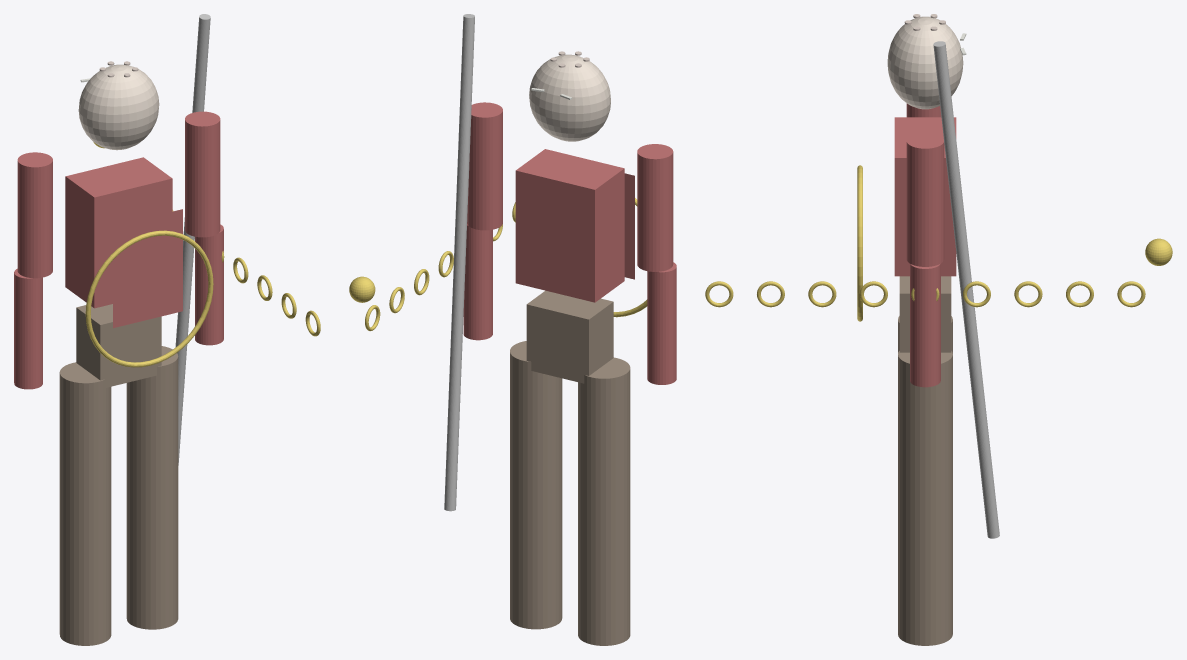
The model's file is 空慧禅师_粗模.glb.
3 renders of one model, left to right at view 1: azimuth 30°, elevation 25°; view 2: azimuth 150°, elevation 25°; view 3: azimuth 270°, elevation 25°, orthographic. The views are drawn at different scales.
Visible parts, largest first — view 1: 空慧禅师_Leg.001, 空慧禅师_Leg, 空慧禅师_Torso, 空慧禅师_Kasaya, 空慧禅师_Head, 空慧禅师_Waist, 空慧禅师_ArmUpper, 空慧禅师_ArmUpper.001, 空慧禅师_ArmLower.001, 空慧禅师_Staff, 空慧禅师_ArmLower, 空慧禅师_GoldTrim; view 2: 空慧禅师_Torso, 空慧禅师_Leg.001, 空慧禅师_Leg, 空慧禅师_Waist, 空慧禅师_Staff, 空慧禅师_Head, 空慧禅师_ArmUpper.001, 空慧禅师_ArmUpper, 空慧禅师_ArmLower.001, 空慧禅师_ArmLower, 空慧禅师_Kasaya, 空慧禅师_StaffTip; view 3: 空慧禅师_Leg, 空慧禅师_Staff, 空慧禅师_ArmUpper, 空慧禅师_Head, 空慧禅师_Torso, 空慧禅师_ArmLower, 空慧禅师_Waist, 空慧禅师_GoldTrim.
Part boxes in pixels (x1,y1,x2,y2): 空慧禅师_Leg.001: [59, 362, 111, 645]; 空慧禅师_Leg: [126, 346, 178, 629]; 空慧禅师_Torso: [65, 157, 172, 308]; 空慧禅师_Kasaya: [113, 209, 182, 328]; 空慧禅师_Head: [78, 64, 159, 150]; 空慧禅师_Waist: [76, 304, 161, 387]; 空慧禅师_ArmUpper: [185, 111, 220, 237]; 空慧禅师_ArmUpper.001: [17, 152, 52, 278]; 空慧禅师_ArmLower.001: [14, 268, 42, 389]; 空慧禅师_Staff: [175, 14, 210, 465]; 空慧禅师_ArmLower: [195, 224, 223, 345]; 空慧禅师_GoldTrim: [85, 230, 213, 367]; 空慧禅师_Torso: [515, 149, 624, 302]; 空慧禅师_Leg.001: [578, 357, 630, 645]; 空慧禅师_Leg: [510, 341, 562, 629]; 空慧禅师_Waist: [526, 290, 613, 383]; 空慧禅师_Staff: [444, 14, 474, 511]; 空慧禅师_Head: [529, 54, 610, 141]; 空慧禅师_ArmUpper.001: [637, 144, 673, 271]; 空慧禅师_ArmUpper: [467, 102, 502, 230]; 空慧禅师_ArmLower.001: [647, 262, 676, 384]; 空慧禅师_ArmLower: [463, 224, 492, 340]; 空慧禅师_Kasaya: [624, 173, 634, 279]; 空慧禅师_StaffTip: [349, 276, 375, 302]; 空慧禅师_Leg: [898, 351, 952, 645]; 空慧禅师_Staff: [933, 41, 999, 538]; 空慧禅师_ArmUpper: [906, 132, 944, 266]; 空慧禅师_Head: [887, 16, 963, 109]; 空慧禅师_Torso: [894, 117, 956, 276]; 空慧禅师_ArmLower: [910, 263, 940, 387]; 空慧禅师_Waist: [899, 276, 951, 352]; 空慧禅师_GoldTrim: [857, 165, 862, 321].
Bounding box in the file's own units: 0.749 × 2 × 1.36.
